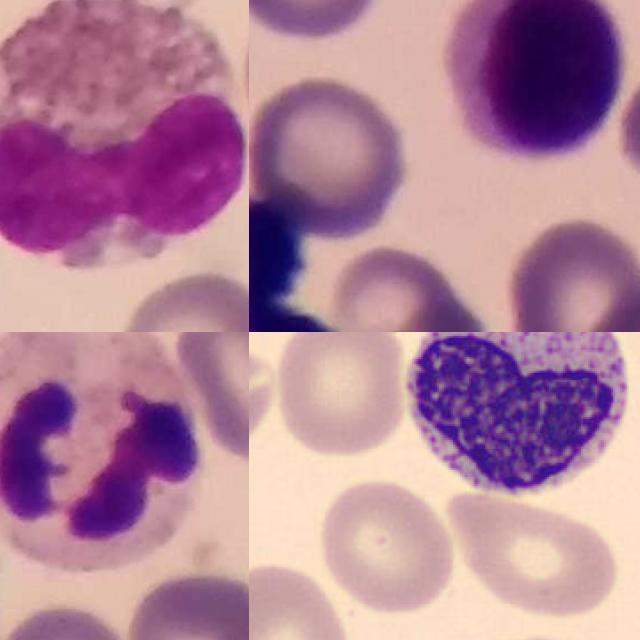Eosinophil: (0, 0, 248, 276)
Lymphocyte: (436, 0, 623, 158)
Monocyte: (390, 332, 640, 505)
Neutrophil: (0, 332, 200, 569)
RBC: (444, 490, 624, 622), (313, 474, 457, 618), (270, 332, 414, 462), (249, 556, 358, 640), (249, 337, 280, 466)
